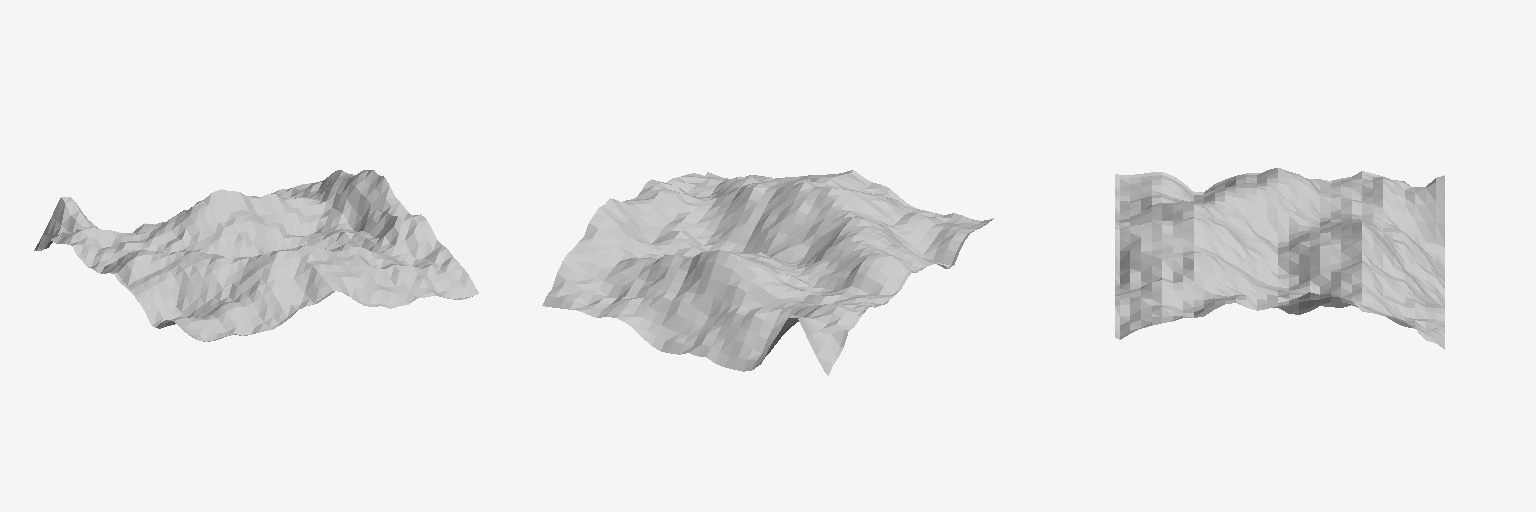
File: heightmap.022.obj
The picture shows the model from 3 angles: view 1: azimuth 30°, elevation 25°; view 2: azimuth 150°, elevation 25°; view 3: azimuth 270°, elevation 25°; orthographic projection.
Parts seen in each view (by area): view 1: heightmap.022_Plane.022; view 2: heightmap.022_Plane.022; view 3: heightmap.022_Plane.022.
Boxes of the visible parts, x1,y1,x2,y2 form: heightmap.022_Plane.022: [34, 170, 478, 341]; heightmap.022_Plane.022: [542, 170, 993, 375]; heightmap.022_Plane.022: [1115, 168, 1444, 349].
Size of the model in its own units: 32 by 8.8 by 32.